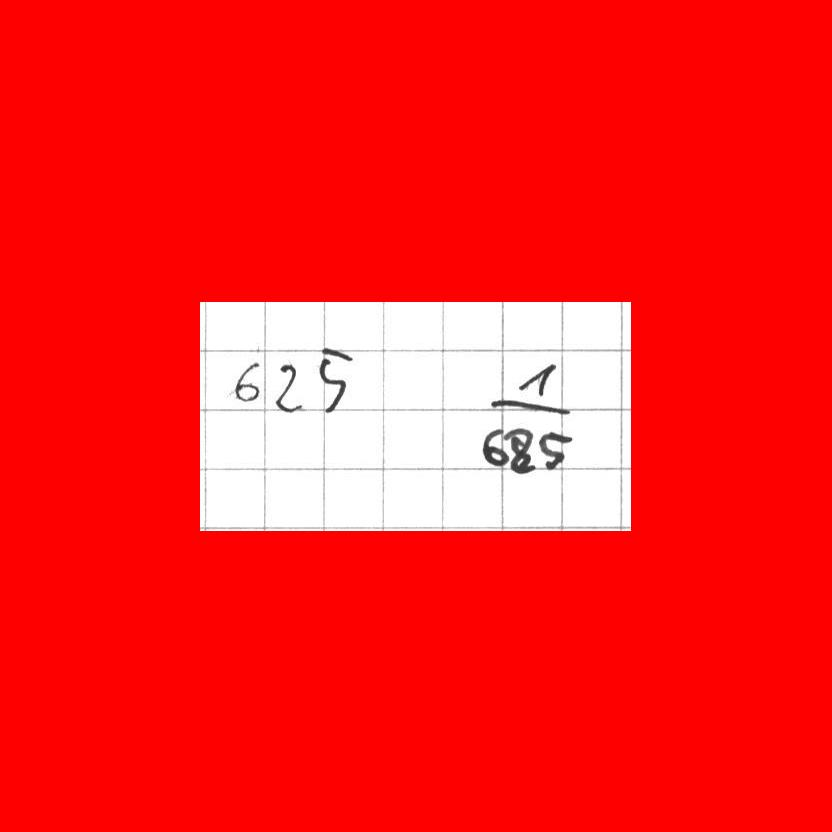Char: (316, 344, 355, 416), (509, 356, 554, 399), (487, 395, 570, 418), (228, 358, 265, 406), (505, 424, 537, 476), (273, 361, 302, 415), (538, 430, 575, 471), (479, 424, 509, 470)
